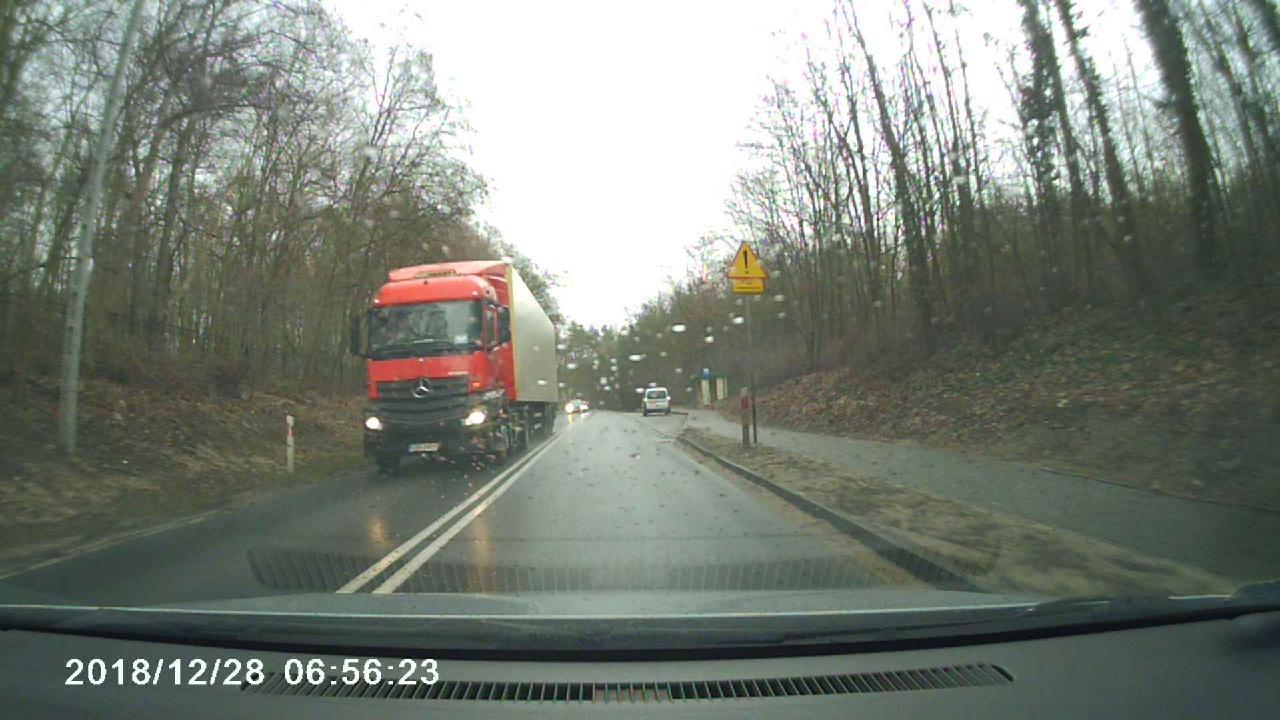A30: (722, 240, 772, 279)
